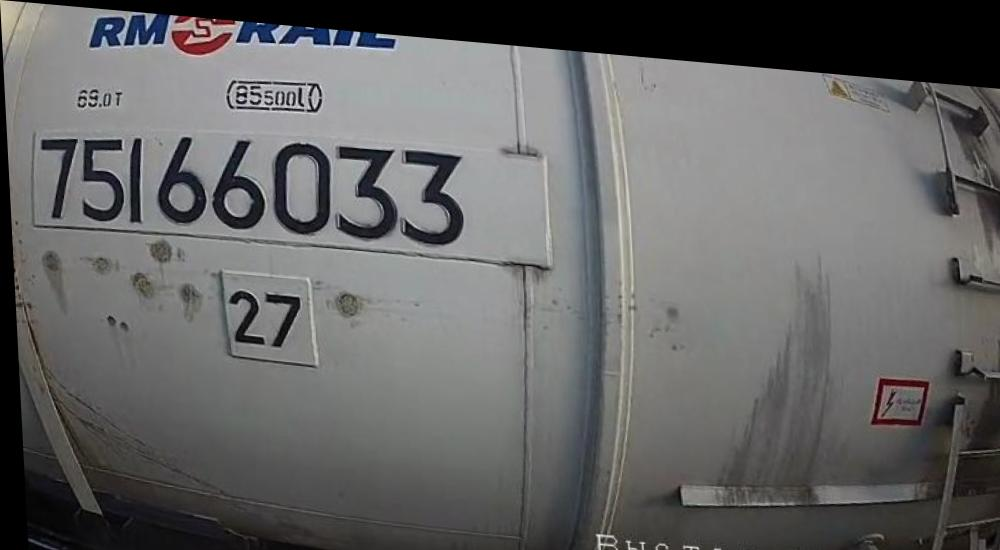Wagon-number: (30, 110, 472, 254)
